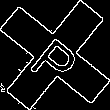P_NE: (25, 24, 85, 86)
